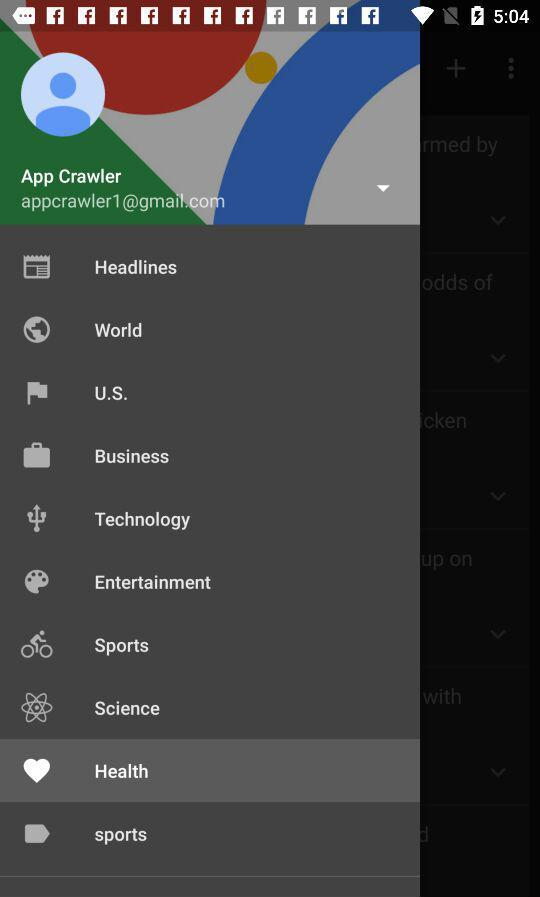Drawer: (1, 27, 421, 897)
Icon: (21, 53, 107, 138), (23, 442, 52, 470), (23, 758, 52, 785), (23, 255, 52, 281), (25, 823, 52, 844), (376, 184, 391, 193)
Image: (20, 629, 55, 660), (21, 692, 55, 723), (23, 316, 52, 345), (24, 569, 51, 595), (27, 503, 48, 534), (27, 381, 50, 406)
Text: (22, 193, 226, 214), (94, 511, 192, 532), (22, 168, 123, 188), (95, 574, 212, 591), (95, 260, 178, 276), (96, 449, 170, 465), (94, 700, 161, 717), (94, 637, 150, 657), (94, 828, 148, 846), (95, 763, 150, 779), (95, 322, 143, 339), (95, 386, 129, 402)
UpperTaskBar: (1, 1, 540, 27)
